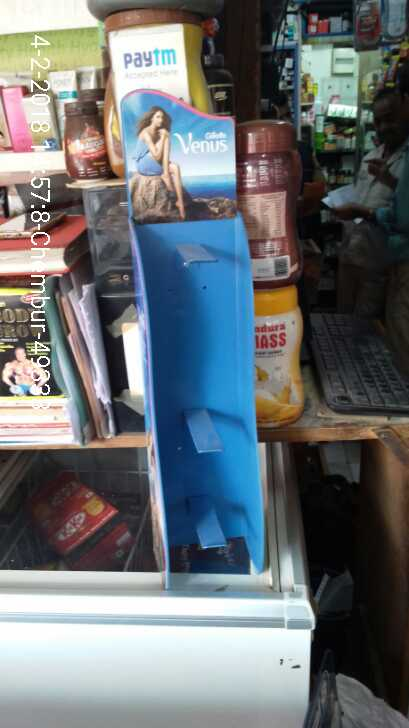reject: (166, 258, 237, 320)
